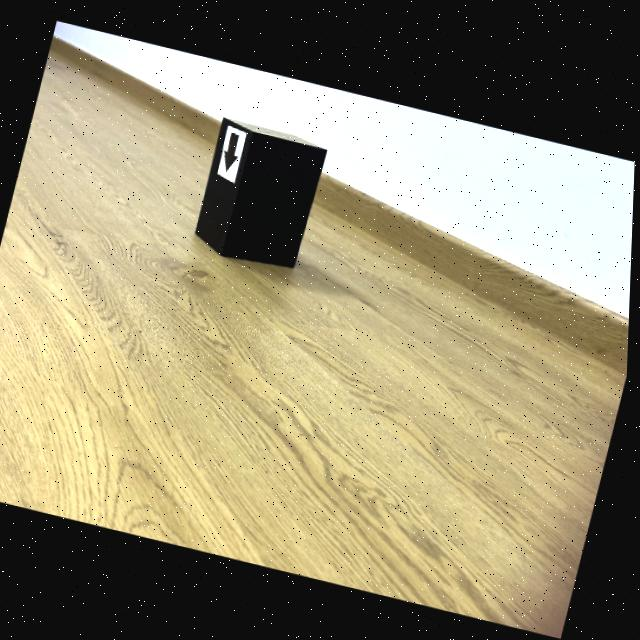DOWN: (225, 131, 240, 172)
